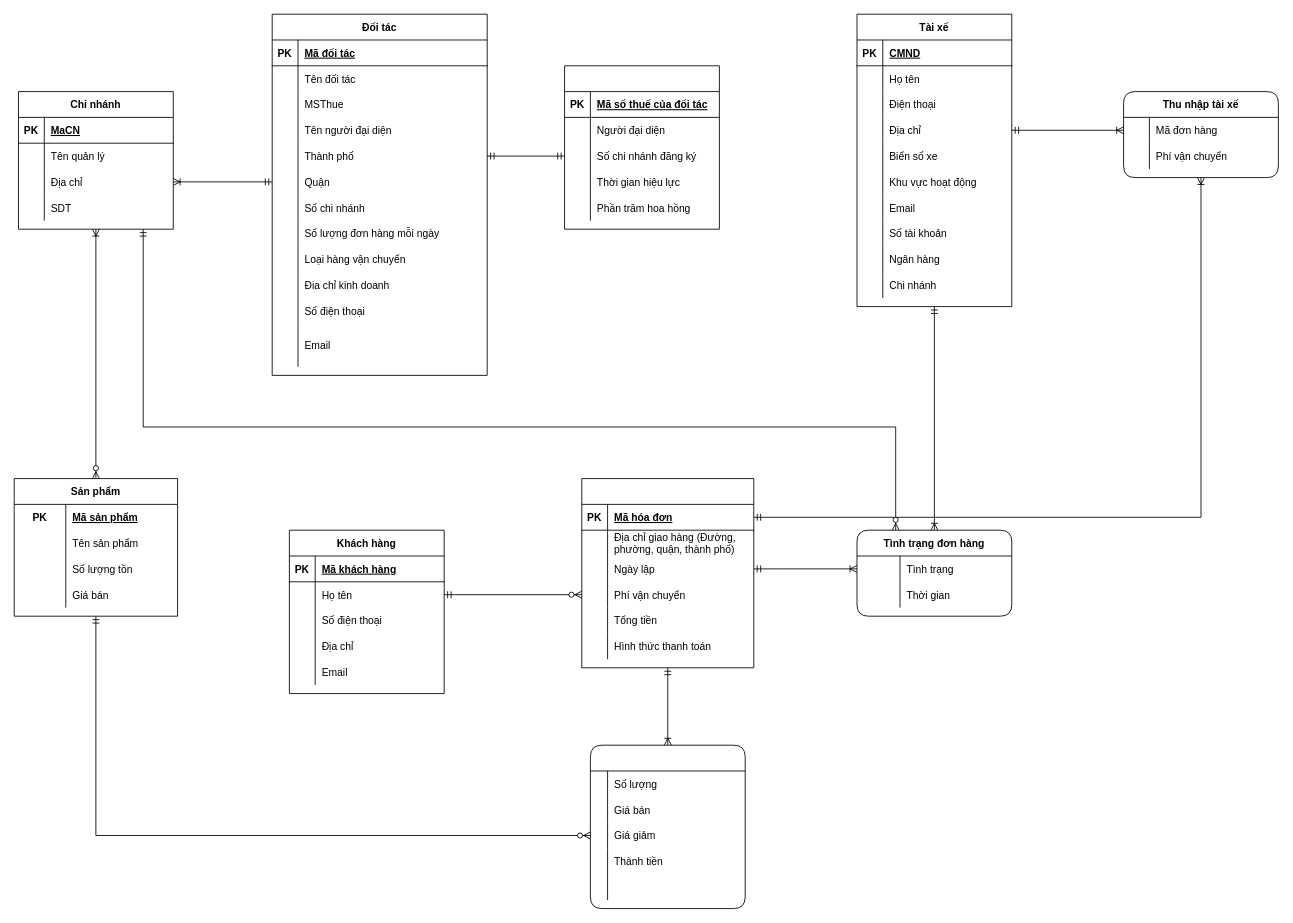
This 1293x923 diagram has some shape labels left out. The box of each missing label's shape, as (x1, y1, x2, y2) in pixels:
CT_Hóa đơn: (590, 744, 745, 909)
Hợp đồng: (564, 65, 719, 229)
Đơn hàng: (581, 478, 754, 668)
